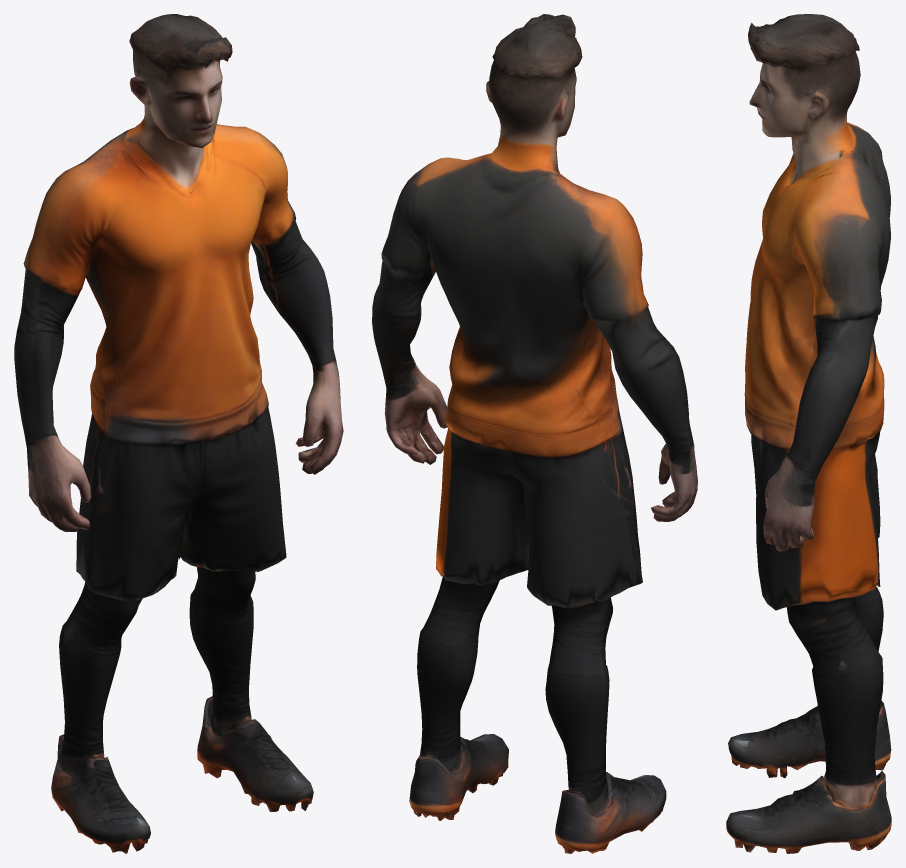
File: modelV1.1-sub.glb
3 views of the same model, side by side, from view 1: azimuth 30°, elevation 25°; view 2: azimuth 150°, elevation 25°; view 3: azimuth 270°, elevation 25° (orthographic).
Size of the model in its own units: 0.8132 by 1.99 by 0.3805.
1 material, 1 textured.
